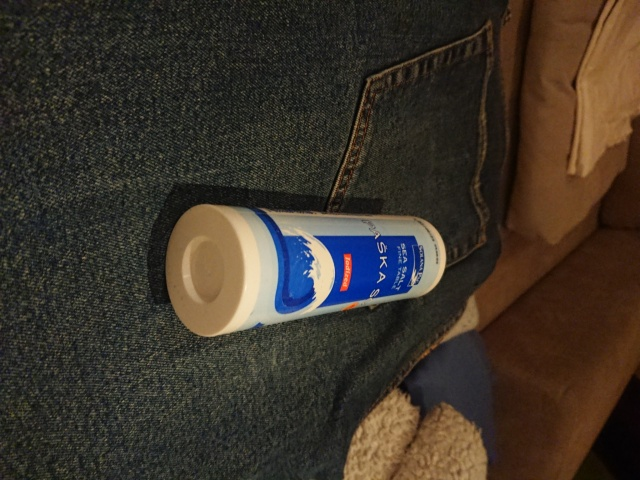Solana Pag Fine Sea Salt 250g: (161, 200, 451, 341)
